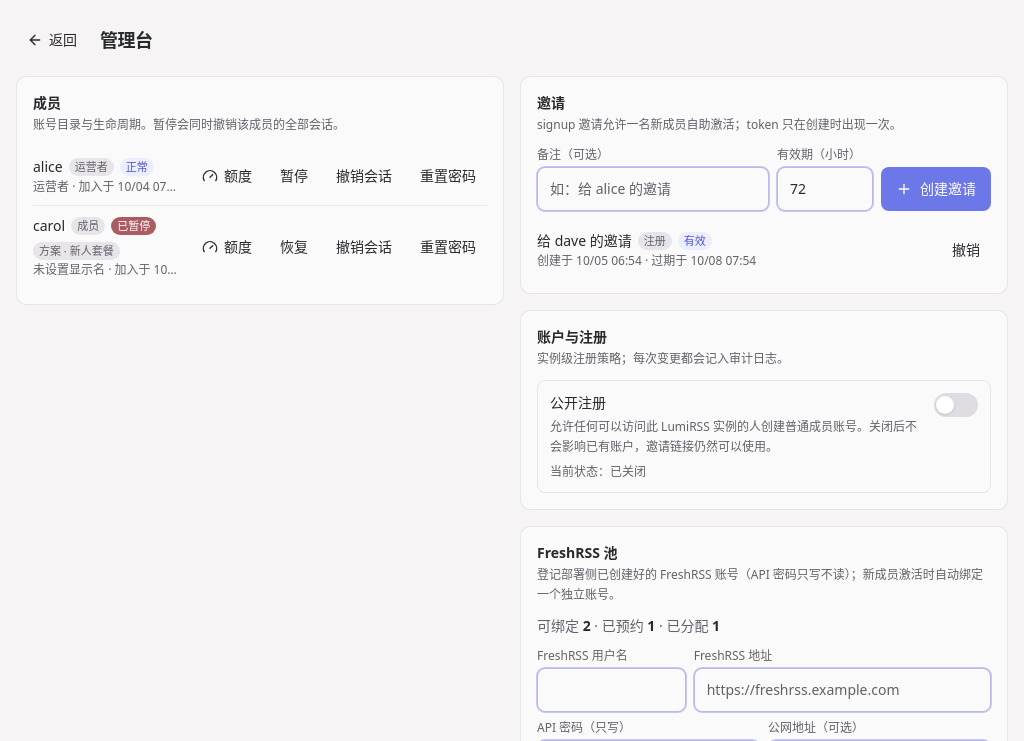
Scenario: 账户与注册（P0-05 注册策略开关） › PUT 失败 → 开关回滚到服务端值并诚实提示
This screenshot has width=1024, height=741.
Click the switch named "公开注册" at (956, 405), box [934,393,978,417]
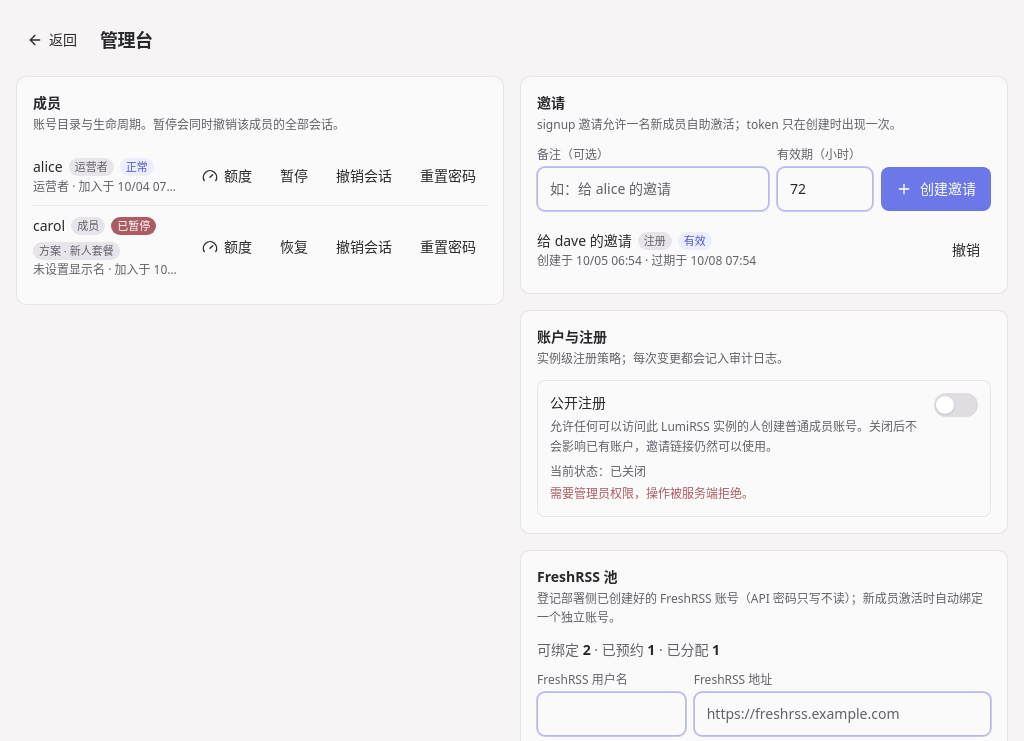
Expected: the element with test id "registration-policy" shows "当前状态：已关闭", [537,326,991,516]
Expected: the message shows "需要管理员权限", [550,485,754,502]
